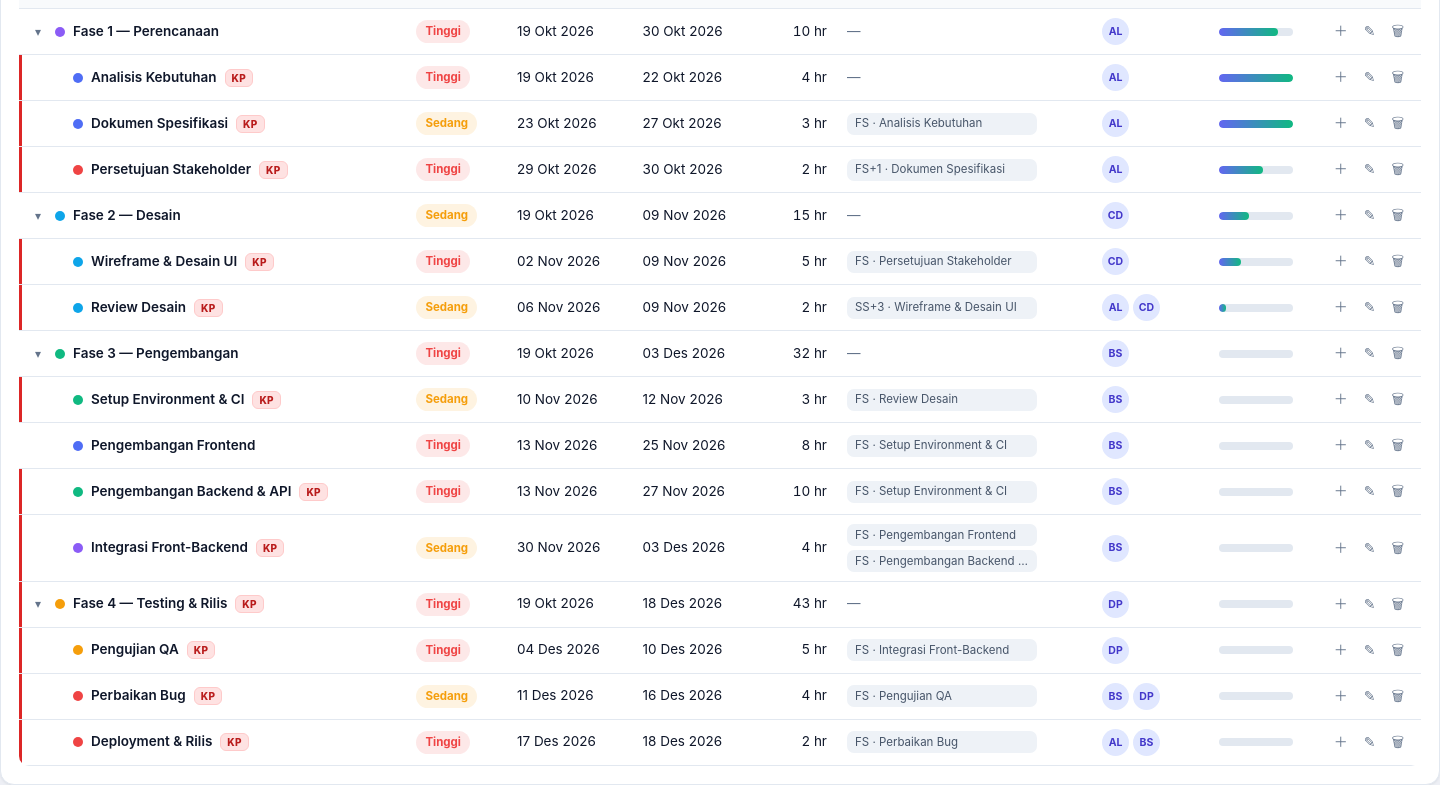
Test: TaskList › menghapus tugas setelah konfirmasi
(page scrolled)
Click the button named "Hapus Deployment & Rilis" at (1398, 742), box top-left (1384, 730), bottom-right (1411, 755)
(page scrolled)
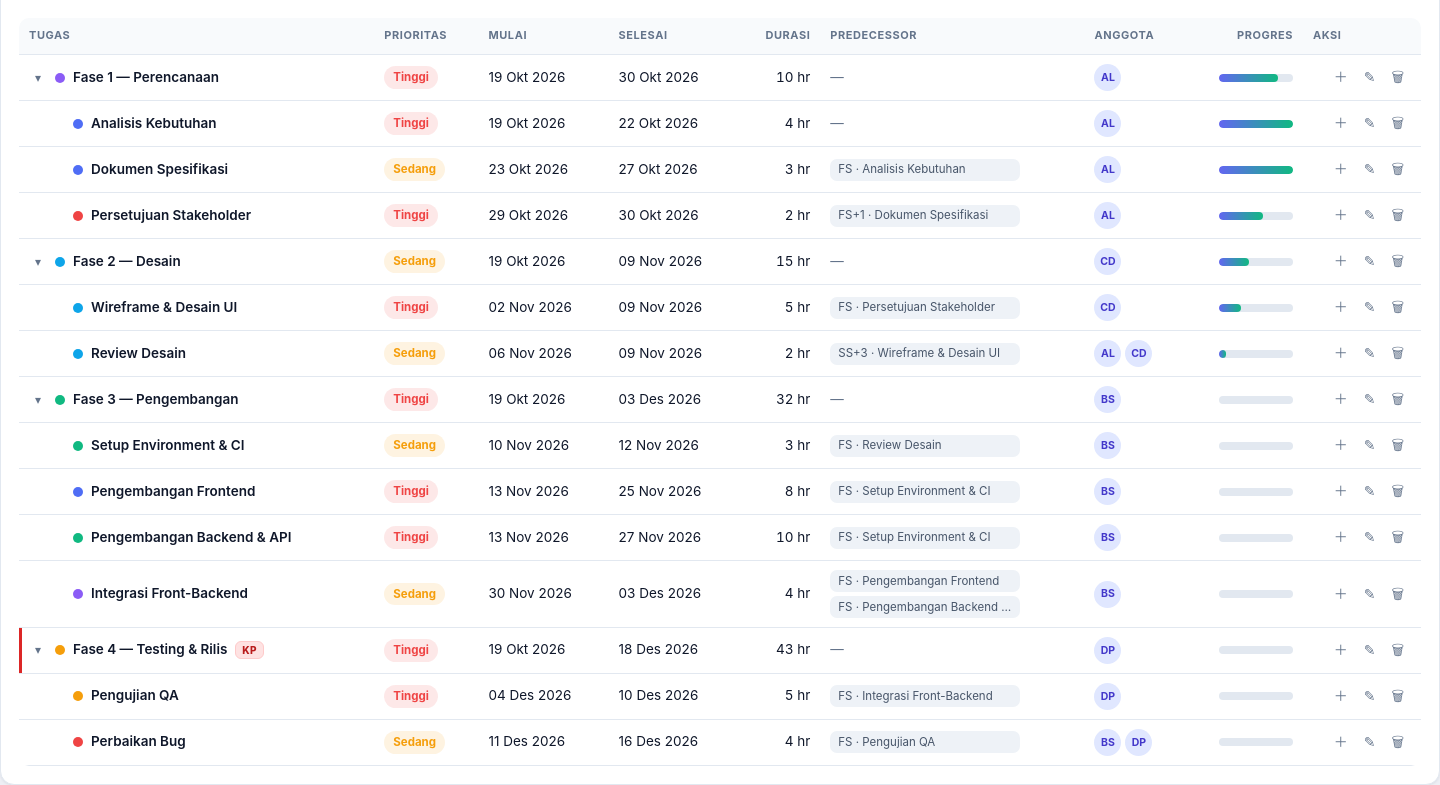
Expected: the text "Deployment & Rilis" is gone
